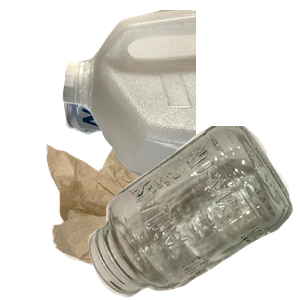glass: (86, 126, 300, 300)
metal: (61, 75, 231, 202)
plastic: (60, 10, 300, 190)
trash: (44, 136, 277, 300)
